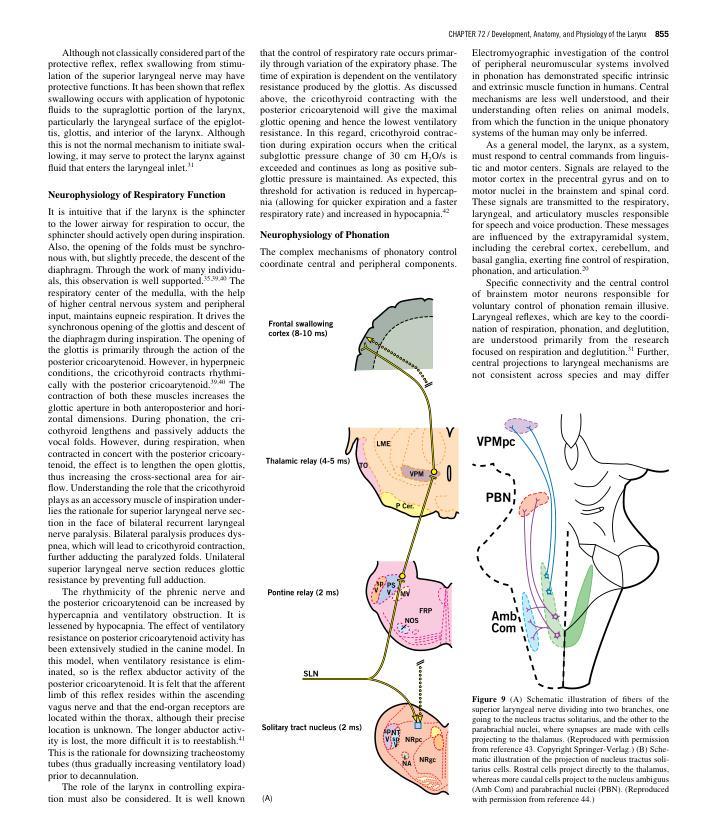caption: (471, 695, 671, 805), (261, 794, 272, 804)
header: (448, 29, 647, 40)
image: (254, 281, 462, 807), (465, 400, 676, 694)
sub-section-heading: (47, 190, 227, 201), (259, 230, 391, 241)
text: (47, 206, 246, 803), (471, 48, 670, 381), (259, 48, 458, 220), (46, 48, 246, 174), (259, 247, 458, 271)
